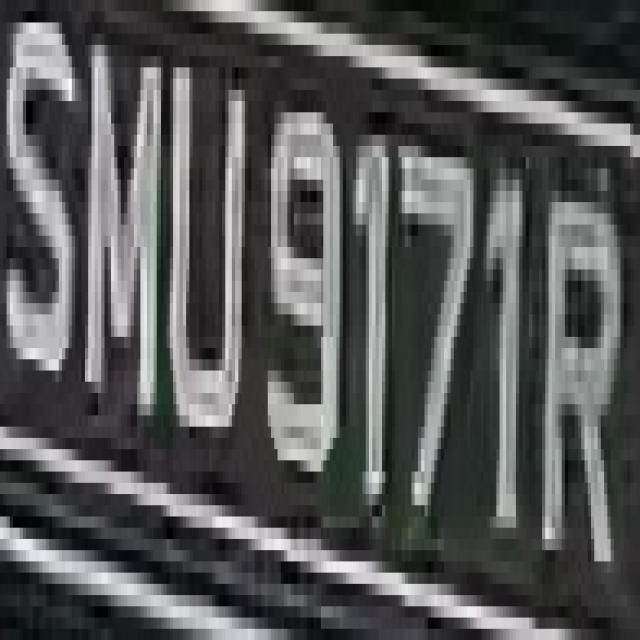1: (336, 112, 395, 584), (490, 123, 529, 618)
7: (398, 79, 471, 595)
9: (262, 90, 350, 516)
M: (82, 23, 170, 449)
R: (536, 180, 636, 595)
S: (3, 11, 78, 393)
U: (166, 56, 255, 472)
